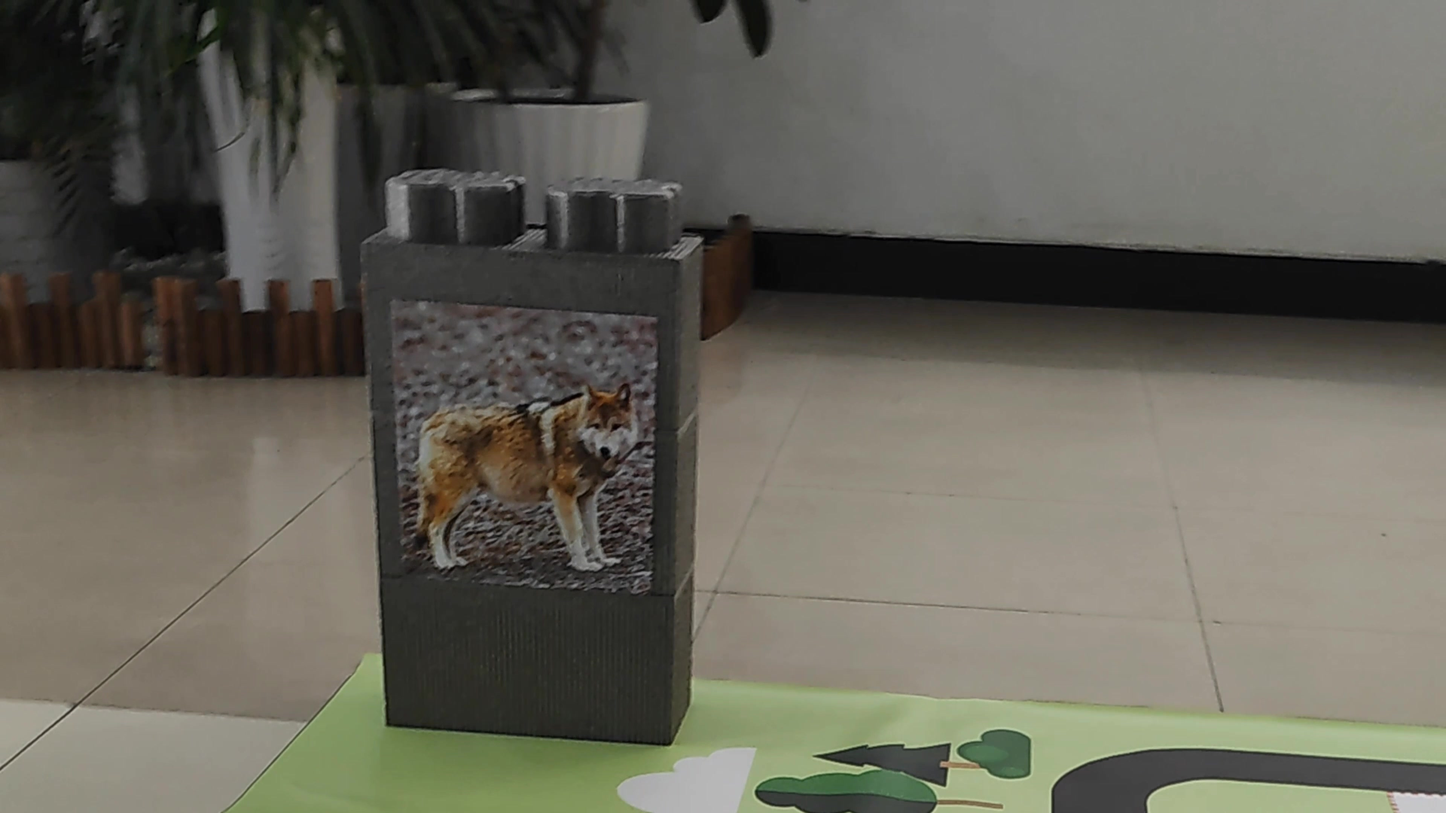wolf: (386, 349, 651, 563)
